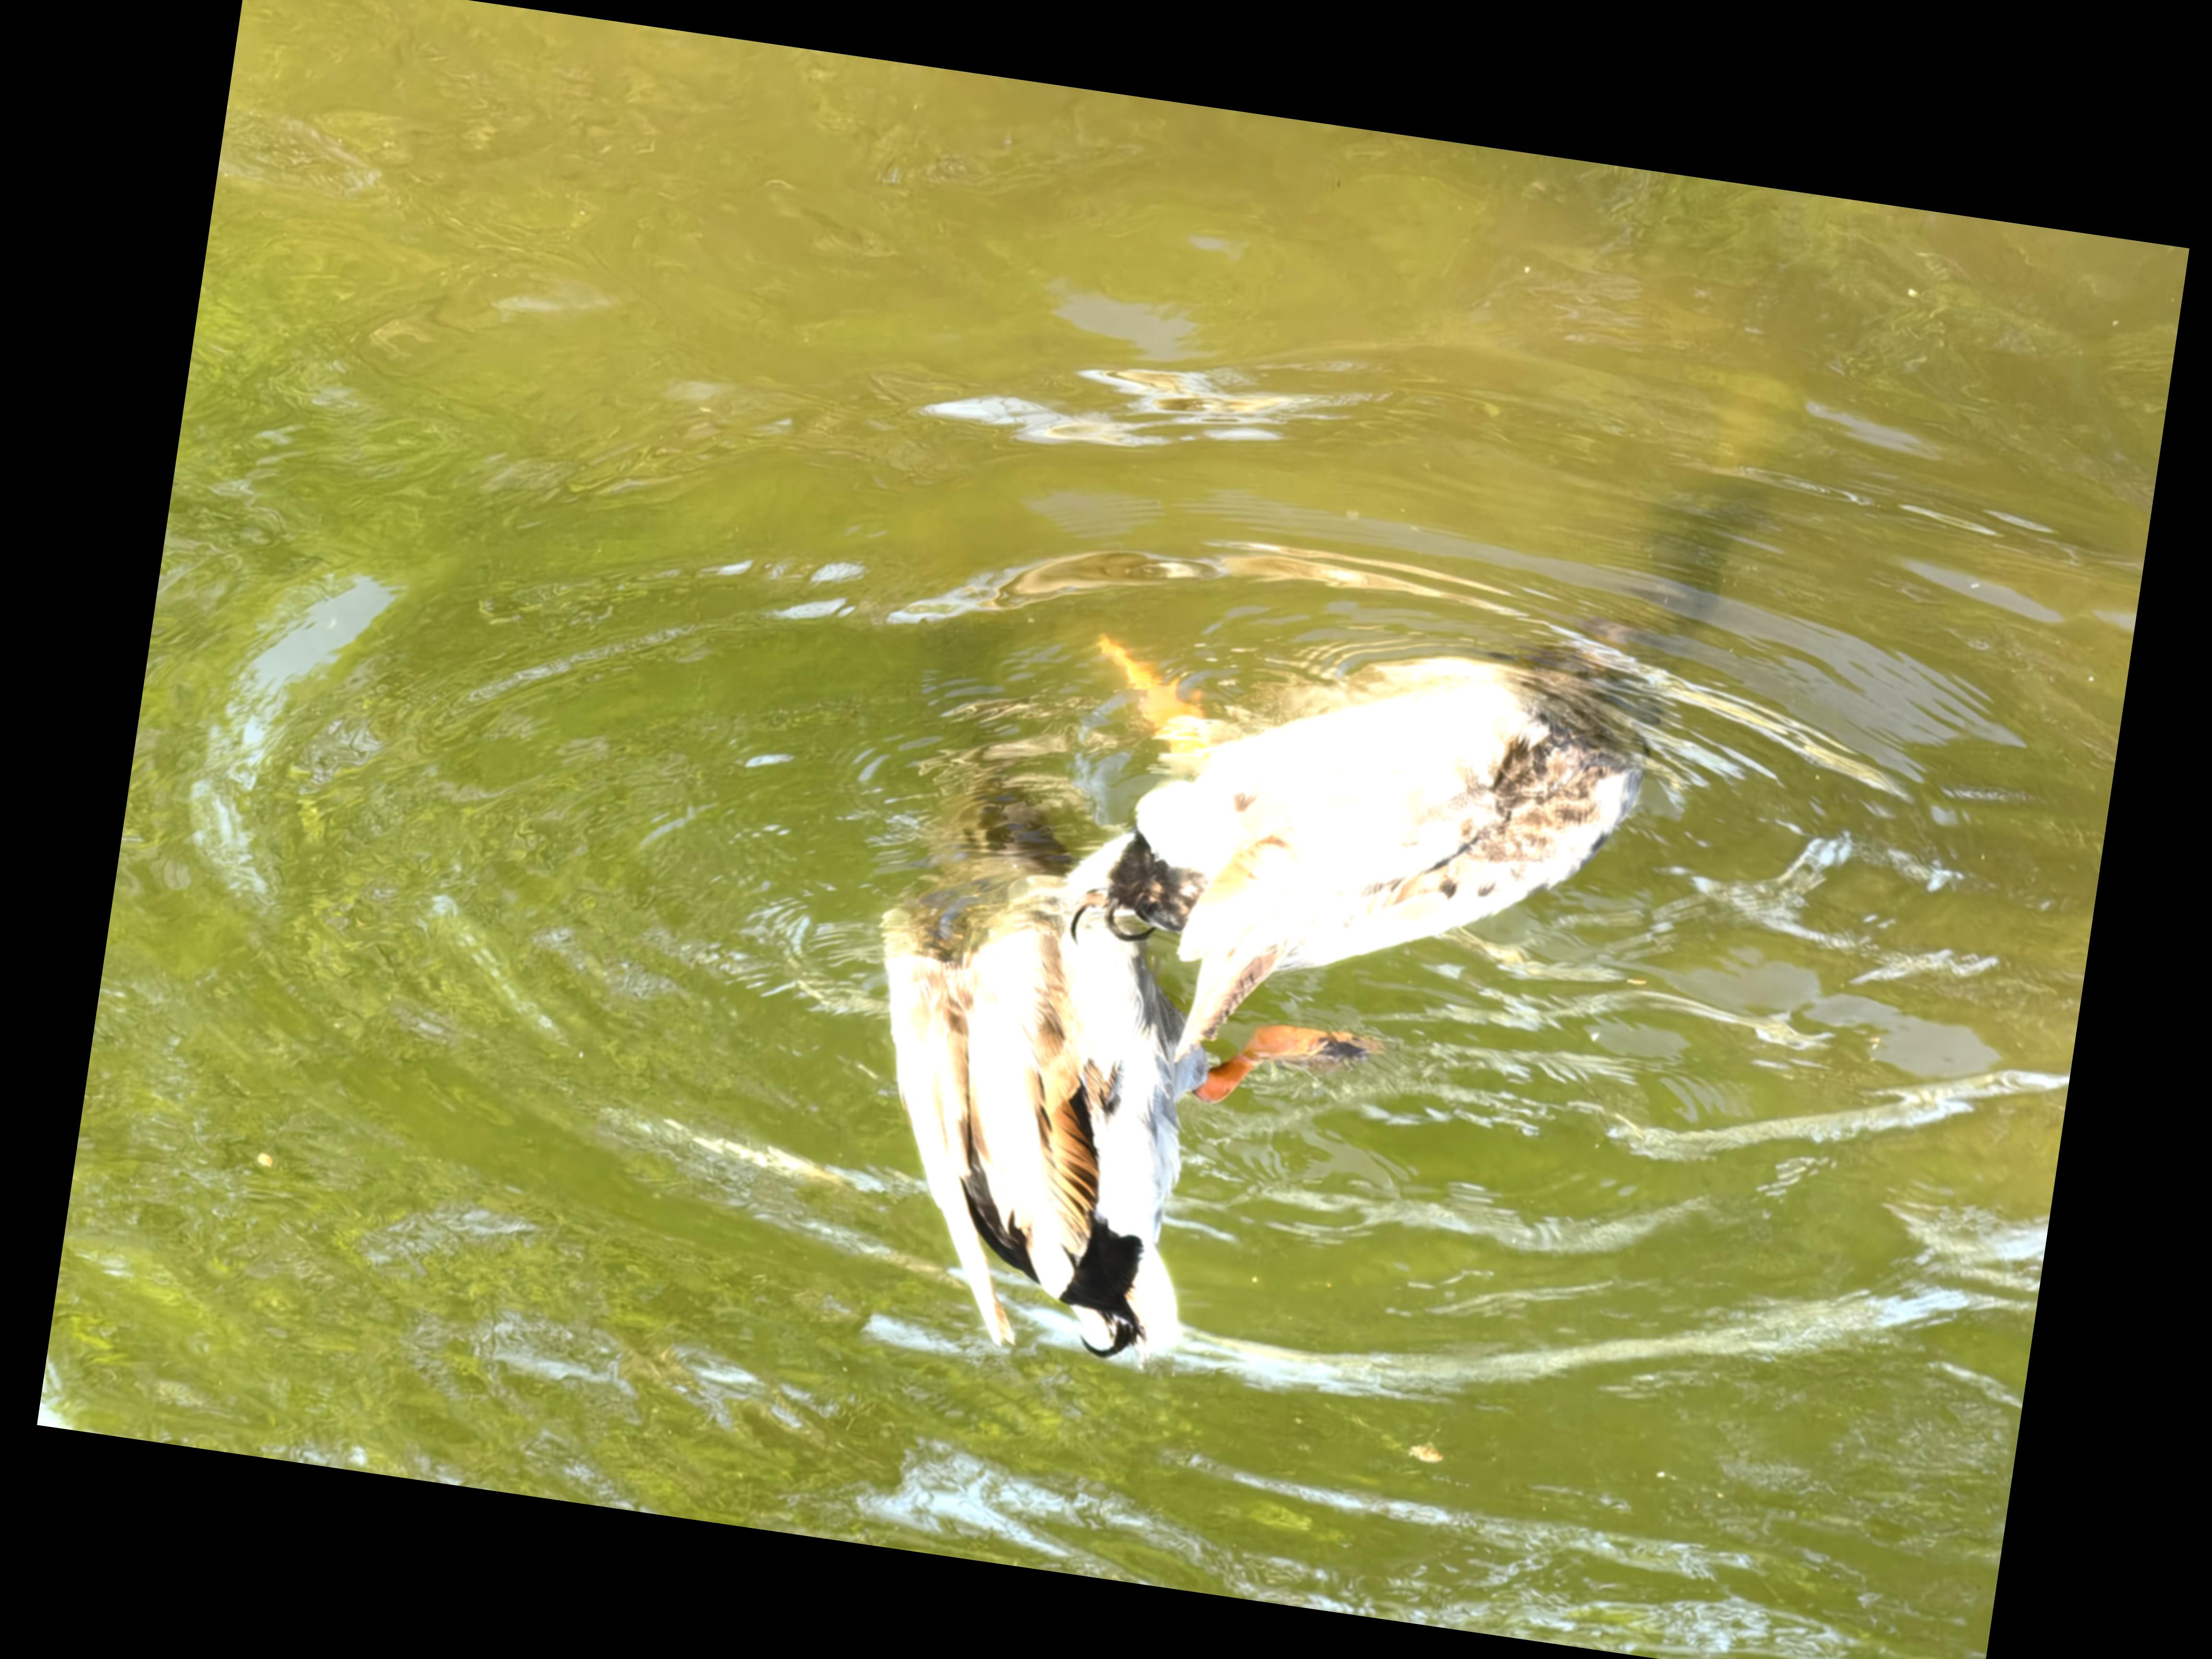duck: (789, 836, 1418, 1432), (1061, 610, 1670, 1122)
